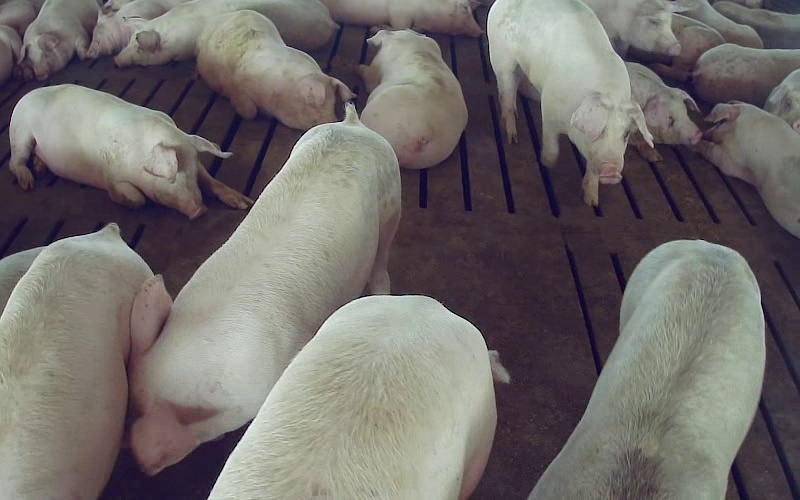pig: (130, 104, 400, 473), (529, 240, 764, 499), (210, 295, 507, 499), (0, 223, 151, 499), (488, 0, 652, 205), (9, 84, 252, 218), (197, 10, 352, 129), (359, 30, 467, 168), (115, 0, 337, 66), (696, 101, 799, 237), (692, 43, 799, 106), (626, 62, 701, 146), (322, 0, 481, 36)
